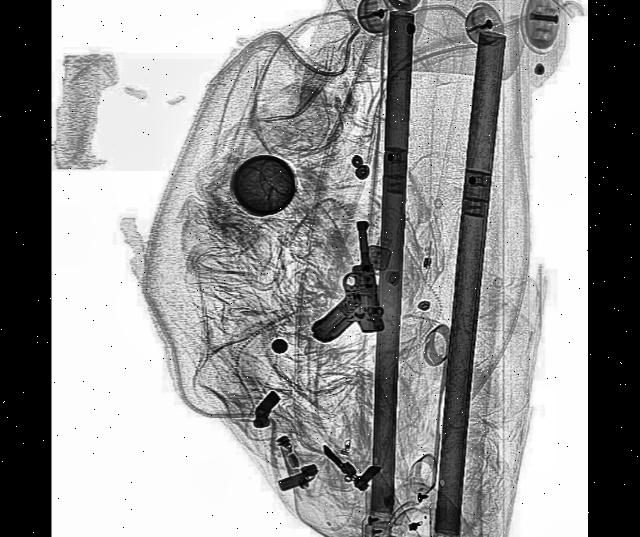Gun: (295, 216, 386, 351)
